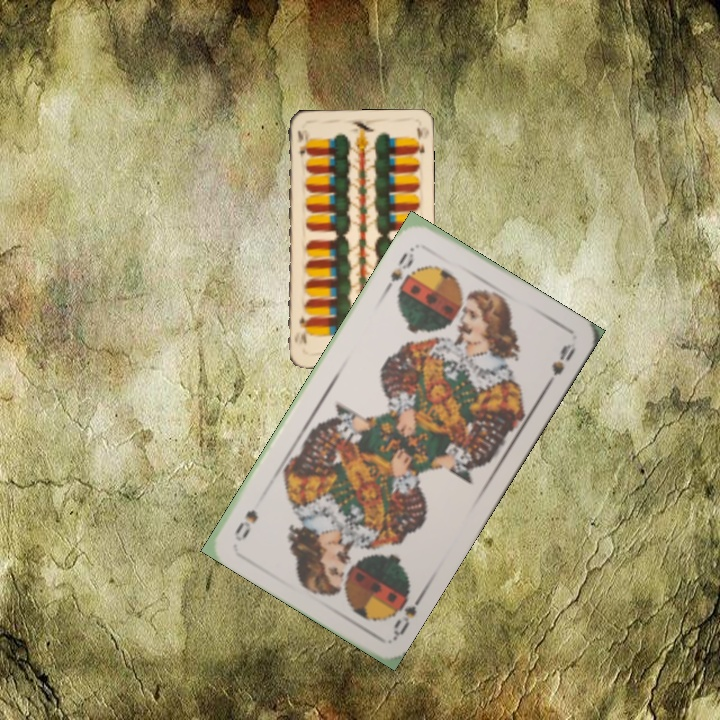E10: (294, 126, 308, 159)
SO: (385, 581, 427, 641), (380, 243, 417, 295)
